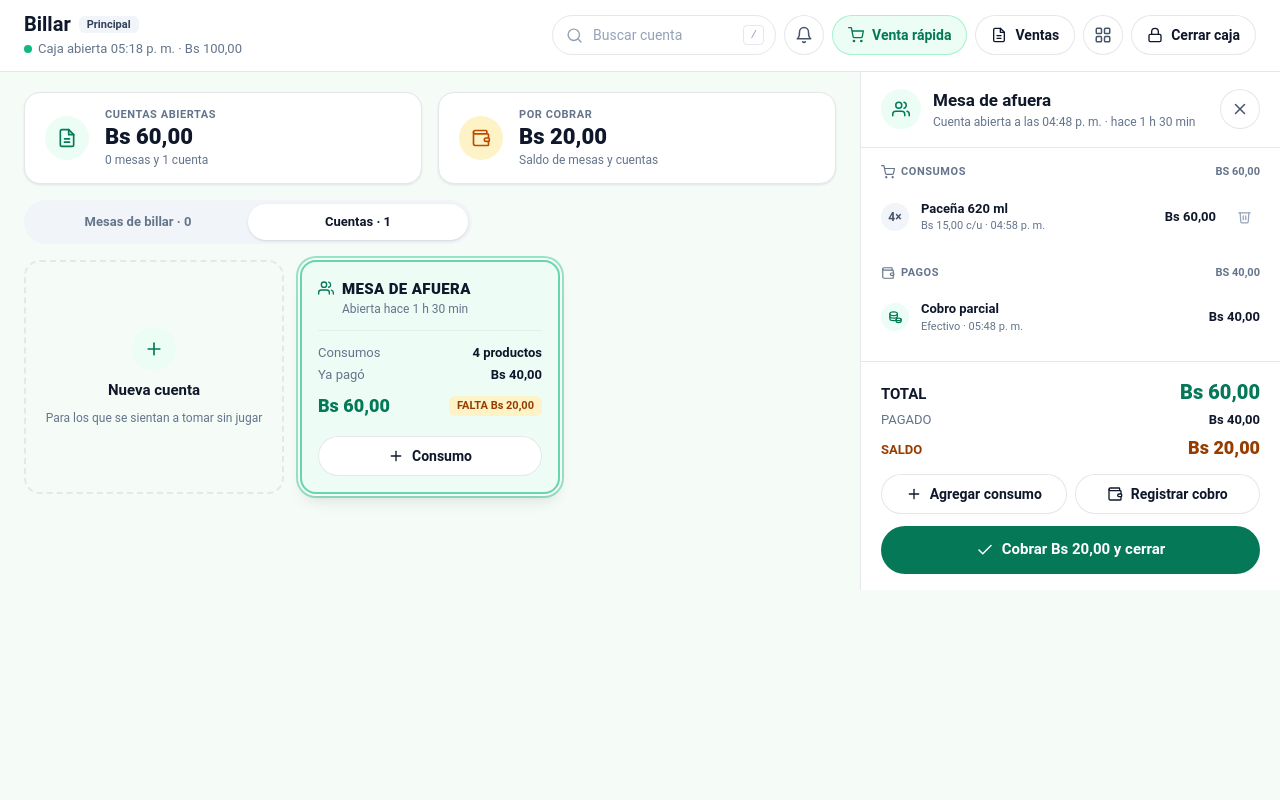
Scenario: Billar: las cuentas abiertas › si otro equipo le carga algo mientras se cobra, el monto no cambia solo: avisa y no cobra hasta tomar la cuenta nueva
The image size is (1280, 800).
expect the heading "Billar Principal" is shown: met, box [24,12,139,36]
Click the button "Cobrar Bs 20,00 y cerrar". click: (1070, 550)
box: [881,526,1260,574]
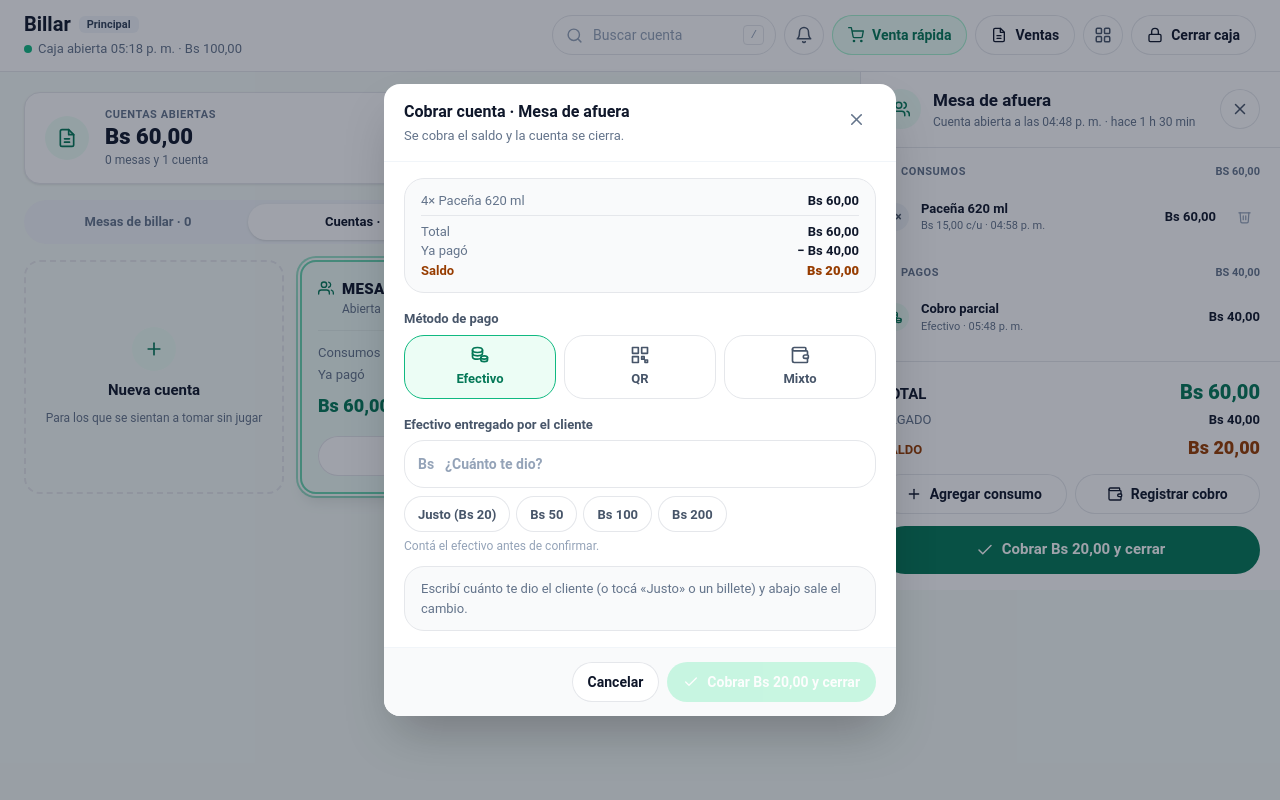
Type "50" into the field named "Efectivo entregado por el cliente". click: (640, 464)
box: [404,440,876,488]
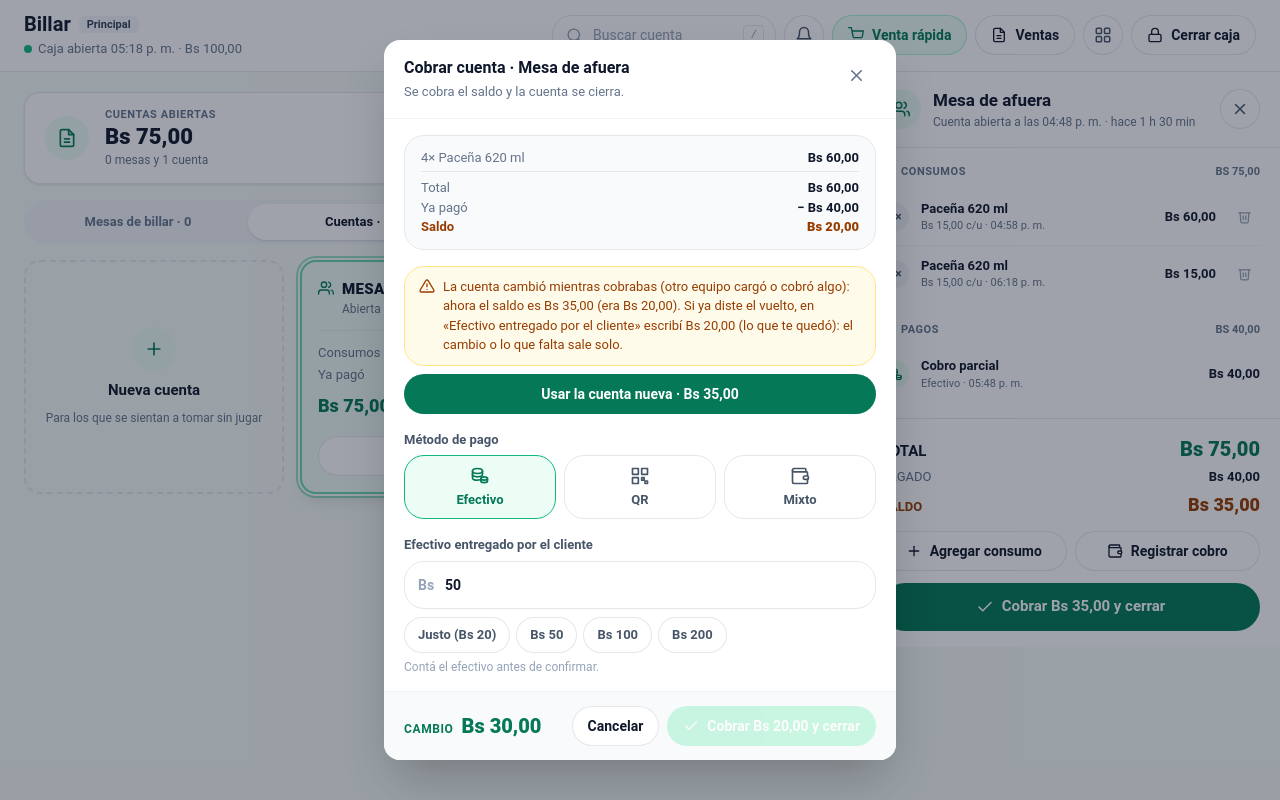
expect the button "Cobrar Bs 20,00 y cerrar" is disabled: met, box [667,706,876,746]
expect the text "La cuenta cambió mientras cobrabas" shows "ahora el saldo es Bs 35,00 (era Bs 20,00)": met, box [443,279,853,352]
Click the button "Usar la cuenta nueva · Bs 35,00". click: (640, 394)
box: [404,374,876,414]
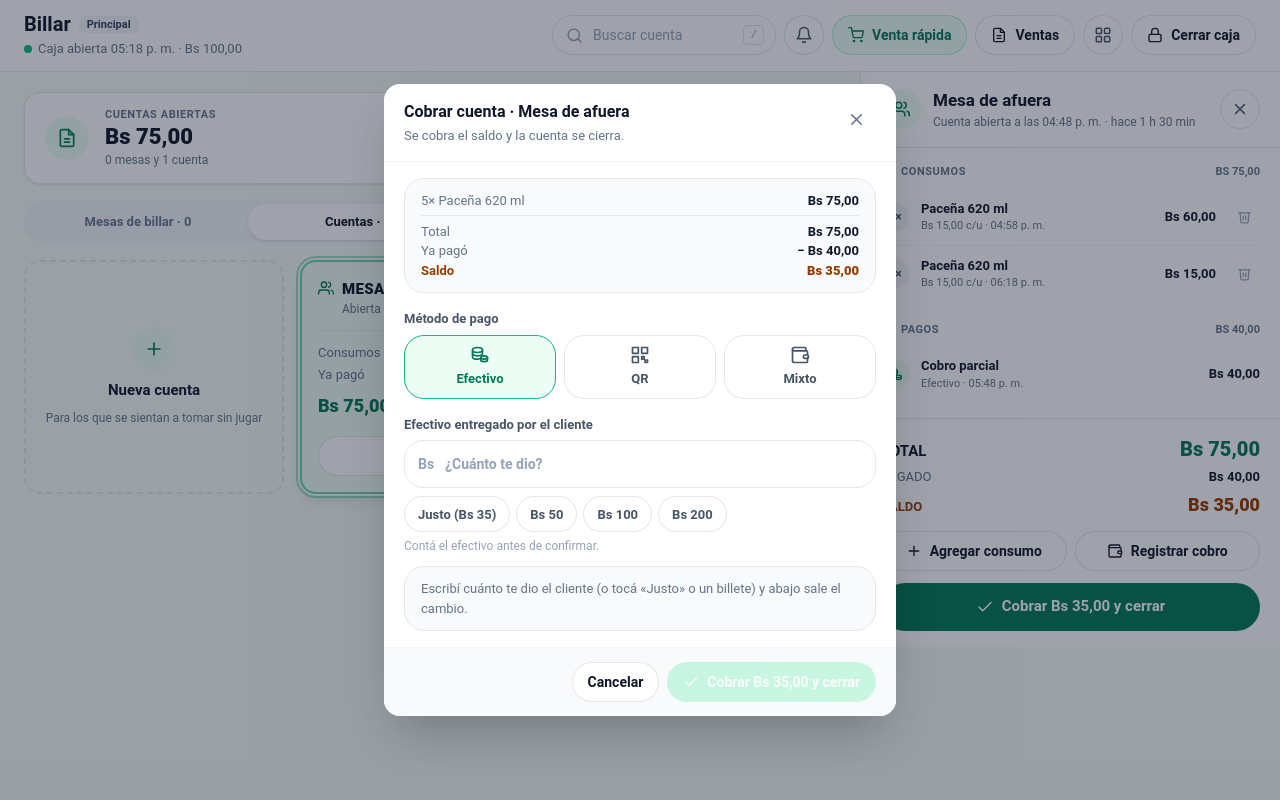
expect the button "Cobrar Bs 35,00 y cerrar" is disabled: met, box [667,662,876,702]
expect the text "La cuenta cambió mientras cobrabas" is gone: met
Click the button "Justo (Bs 35)". click: (457, 514)
box: [404,496,510,532]
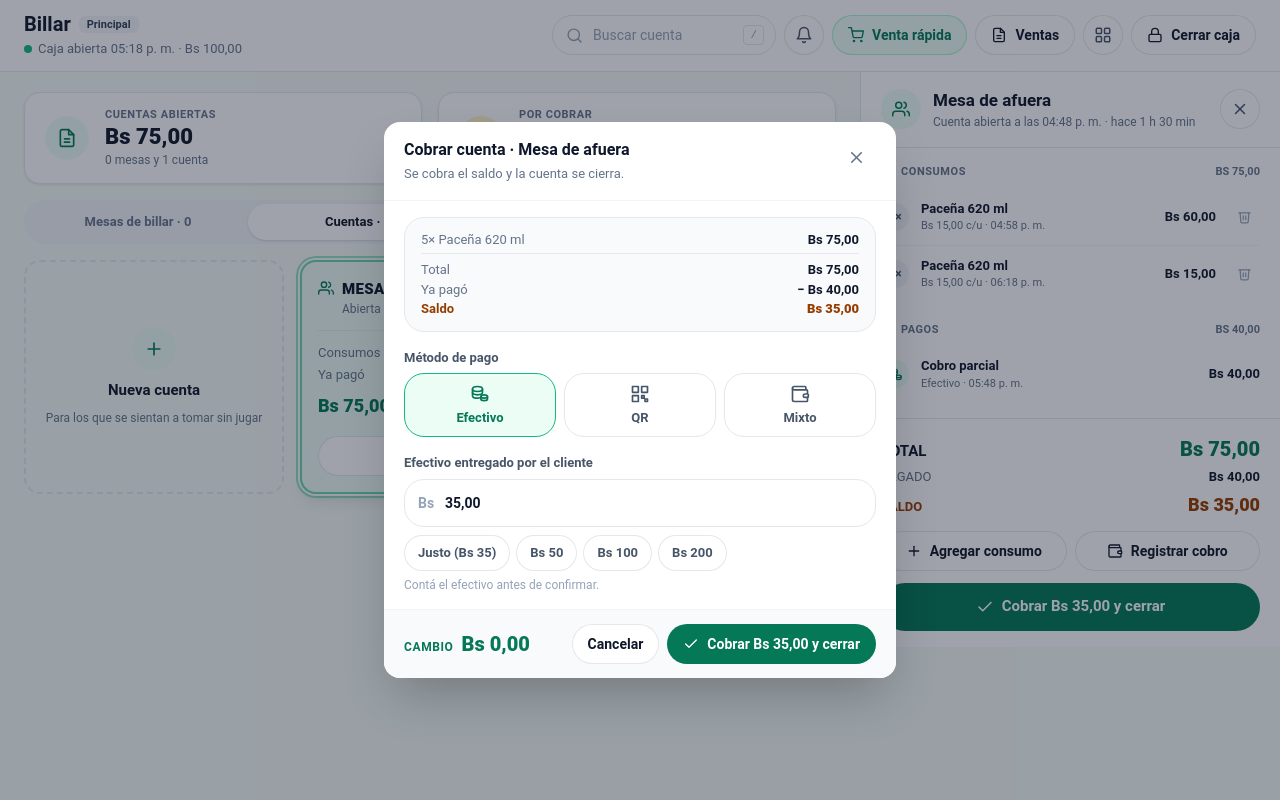
expect the button "Cobrar Bs 35,00 y cerrar" is enabled: met, box [667,624,876,664]
